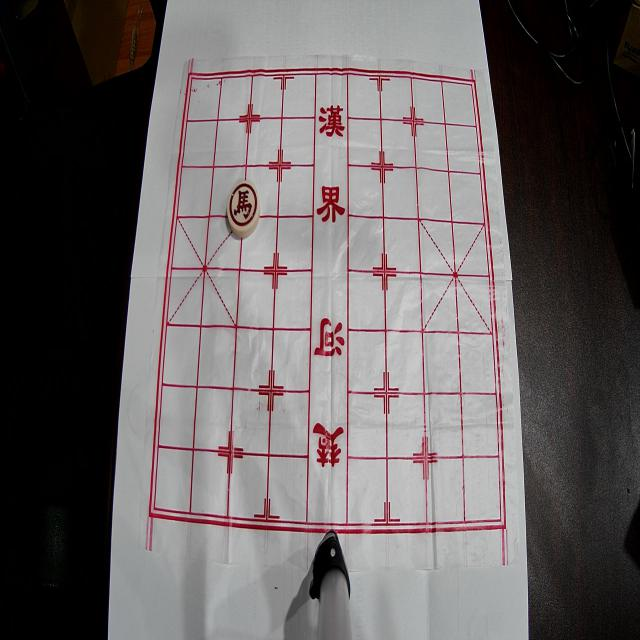red-horse: (227, 180, 260, 238)
